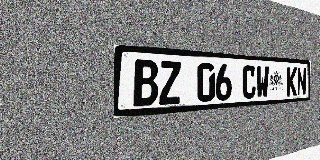0: (197, 62, 215, 102)
6: (215, 63, 232, 101)
B: (133, 59, 158, 107)
C: (242, 65, 256, 99)
K: (287, 67, 297, 96)
N: (297, 67, 306, 96)
W: (256, 65, 269, 98)
Z: (159, 61, 181, 105)
